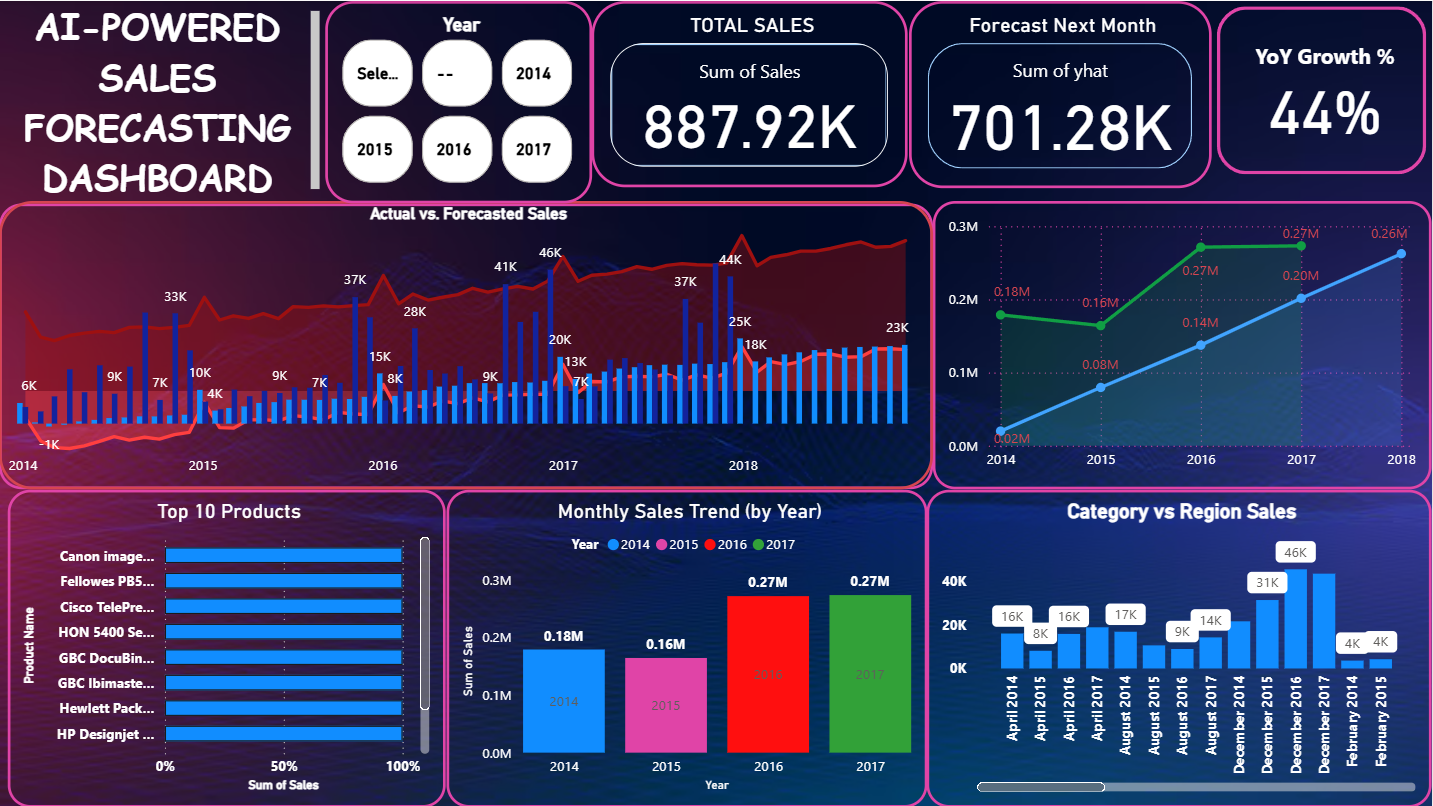

What the dashboard file says about the page in this screenshot:
{"tool":"powerbi","page":{"name":"Page 1","canvas":[1280,720],"ordinal":0},"visuals":[{"type":"cardVisual","title":"TOTAL SALES","fields":{"Data":["Sum(sales_by_year_month.Sales)"]},"box":[529.7,0,282.7,166],"z":0},{"type":"cardVisual","title":"Forecast Next Month","fields":{"Data":["Sum(prophet_forecast_12mo.yhat)","select"]},"box":[812.4,0,270.3,167.4],"z":1000},{"type":"areaChart","fields":{"Category":["Calendar.Date"],"Y":["Sum(prophet_forecast_12mo.yhat_lower)","Sum(prophet_forecast_12mo.yhat_upper)"]},"box":[0,181.1,834.3,255.2],"z":2000},{"type":"lineChart","title":"Actual vs Forecast Sales","fields":{"Category":["prophet_forecast_12mo.ds.Variation.Date Hierarchy.Year","prophet_forecast_12mo.ds.Variation.Date Hierarchy.Quarter","prophet_forecast_12mo.ds.Variation.Date Hierarchy.Month","prophet_forecast_12mo.ds.Variation.Date Hierarchy.Day"],"Y":["Sum(prophet_forecast_12mo.yhat)","Sum(sales_by_year_month.Sales)"]},"box":[834.3,178.4,446,258],"z":3000},{"type":"hundredPercentStackedBarChart","title":"Top 10 Products","fields":{"Category":["top_10_products.Product Name"],"Y":["Sum(top_10_products.Sales)"]},"box":[8.2,436.4,391.1,284],"z":4000},{"type":"columnChart","title":"Category vs Region Sales","fields":{"Y":["Sum(category_region_sales.Sales)"],"Category":["category_region_sales.Month","category_region_sales.Year"]},"box":[828.8,436.4,451.5,284],"z":5000},{"type":"lineStackedColumnComboChart","title":"Monthly Sales Trend (by Year)","fields":{"Category":["sales_by_year_month.Year"],"Y":["Sum(sales_by_year_month.Sales)"],"Series":["sales_by_year_month.Year"]},"box":[399.3,436.4,429.5,284],"z":6000},{"type":"lineClusteredColumnComboChart","title":"Actual vs. Forecasted Sales","fields":{"Category":["Calendar.Date"],"Y":["Sum(prophet_forecast_12mo.yhat)","Sum(sales_by_year_month.Sales)"]},"box":[0,178.4,834.3,258],"z":7000},{"type":"textbox","box":[0,0,290.9,178.4],"z":8000},{"type":"cardVisual","fields":{"Data":["sales_by_year_month.YoY Growth %"]},"box":[1082.7,0,197.6,160.5],"z":9000},{"type":"advancedSlicerVisual","fields":{"Values":["sales_by_year_month.Year"]},"box":[290.9,0,238.8,181.1],"z":9001}]}

Visuals, with their boxes in screenshot pixels (x1, y1, x2, y2), scaled from the page's 1280x720 canvas onto the 1433x806 screenshot:
"TOTAL SALES" cardVisual: Rect(593, 0, 910, 186)
"Forecast Next Month" cardVisual: Rect(910, 0, 1212, 187)
areaChart - Calendar.Date x Sum(prophet_forecast_12mo.yhat_lower): Rect(0, 203, 934, 488)
"Actual vs Forecast Sales" lineChart: Rect(934, 200, 1432, 489)
"Top 10 Products" hundredPercentStackedBarChart: Rect(9, 489, 447, 805)
"Category vs Region Sales" columnChart: Rect(928, 489, 1432, 805)
"Monthly Sales Trend (by Year)" lineStackedColumnComboChart: Rect(447, 489, 928, 805)
"Actual vs. Forecasted Sales" lineClusteredColumnComboChart: Rect(0, 200, 934, 489)
textbox: Rect(0, 0, 326, 200)
cardVisual - sales_by_year_month.YoY Growth %: Rect(1212, 0, 1432, 180)
advancedSlicerVisual - sales_by_year_month.Year: Rect(326, 0, 593, 203)
